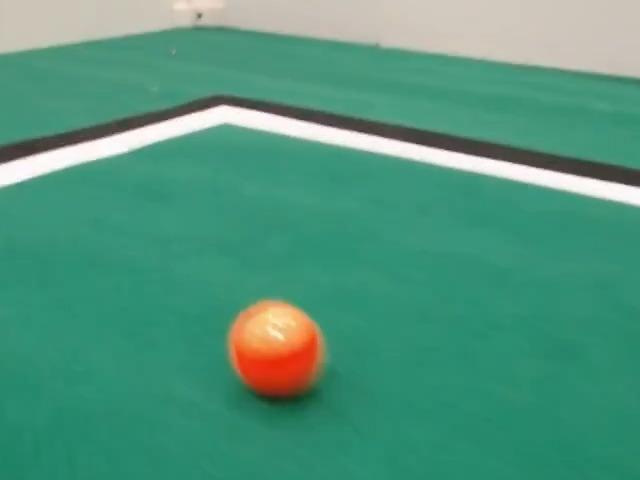Ball: (228, 300, 324, 397)
